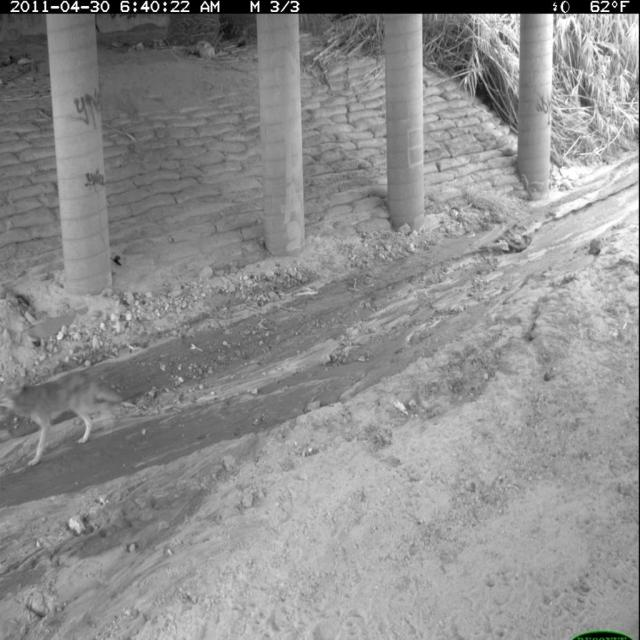coyote: (1, 366, 128, 470)
